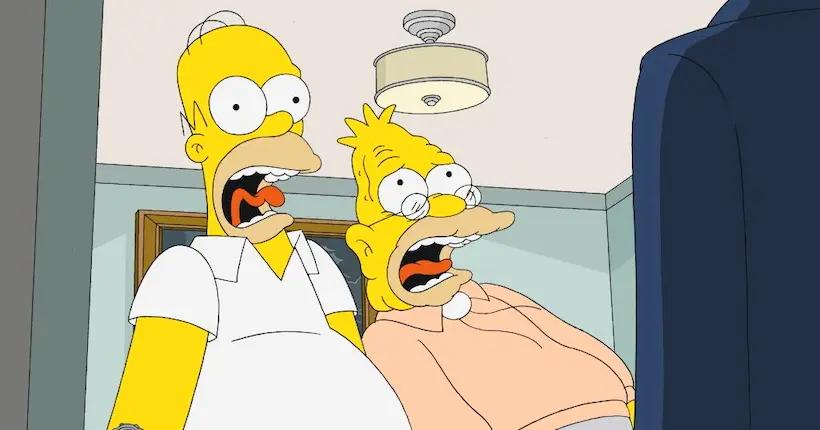Homer: (163, 13, 350, 274)
